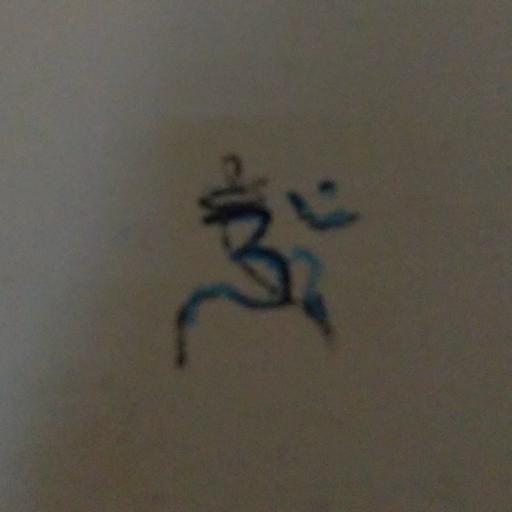stain: (161, 135, 364, 389)
